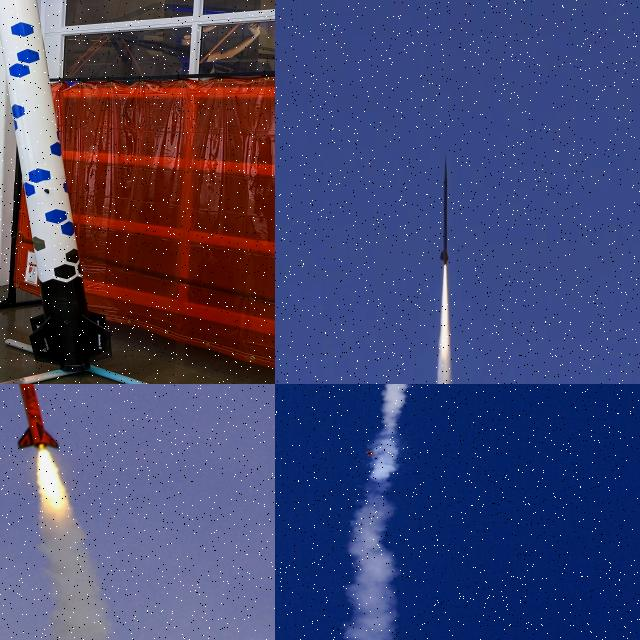Rocket: (9, 384, 63, 452), (440, 154, 449, 264)
